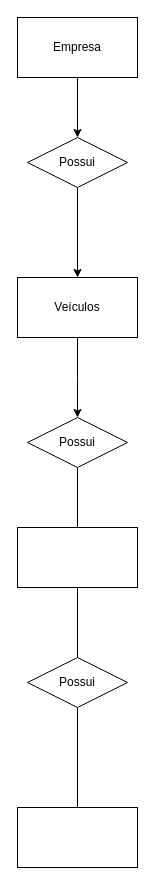
The diagram is 155 pixels wide and 885 high, and some of its shapes have lost their labels. The shapes that lost their labels are listed below. From the top down, each one's centre as x and y in pixels, then its label:
(77,557): Aluguel
(77,837): Clientes
